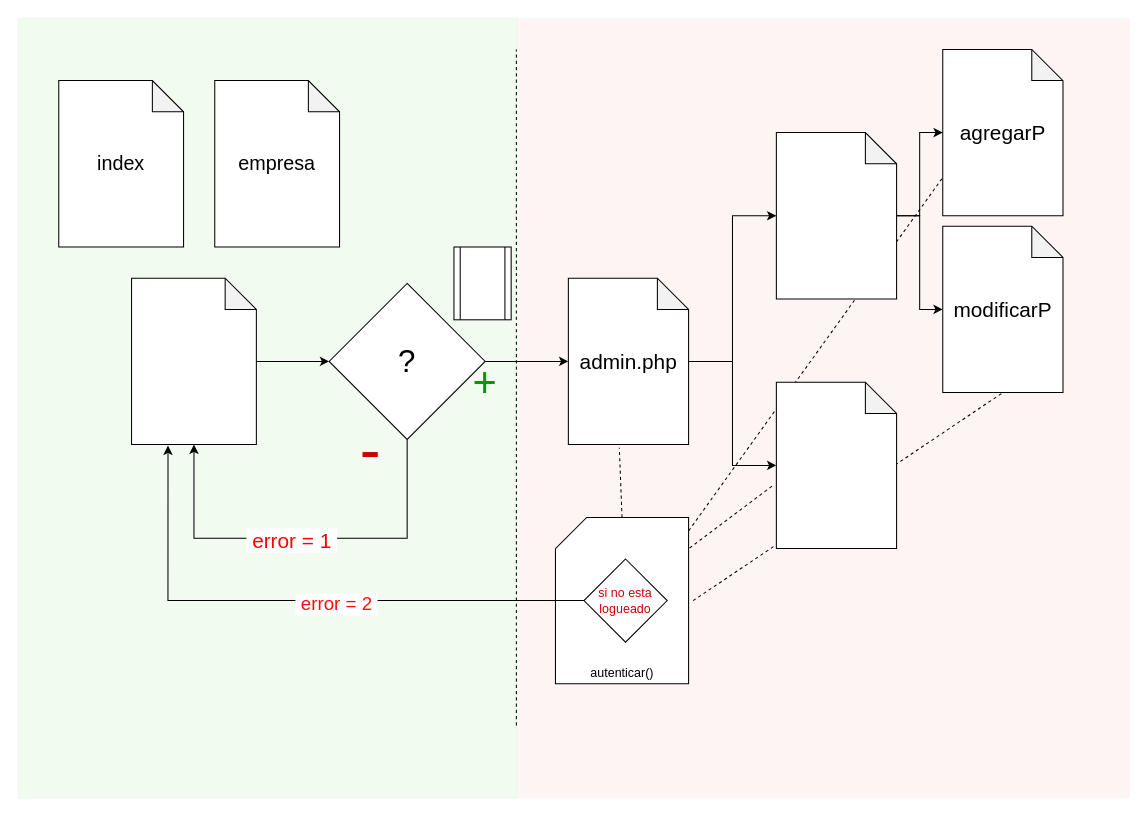
Image size: 1148x816. Some labels were removed from this diagram. Here are the shapes that lost their labels. From the top down, the centre of each, then its label:
At pixel 836 215: "adminP.php".
At pixel 482 283: "login=1".
At pixel 193 361: "form".
At pixel 836 465: "adminM.php".
